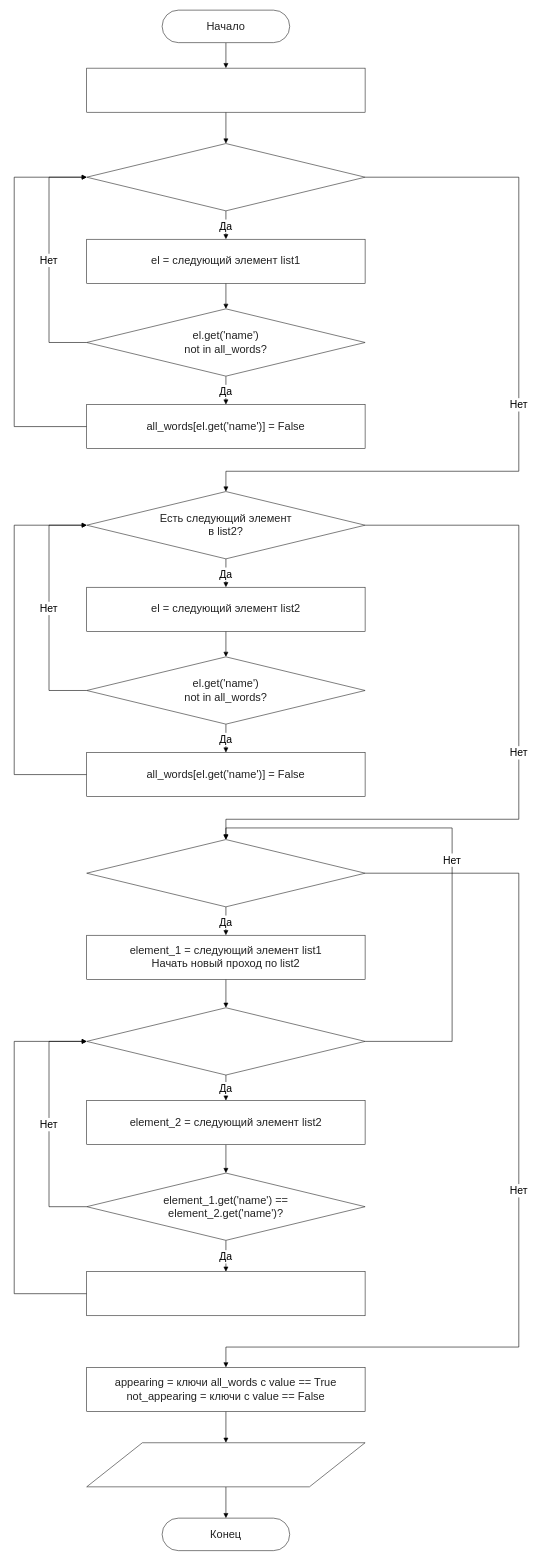
This 538x1561 diagram has some shape labels left out. Here are the shapes that lost their labels. From the top down, the centre of each, then its label:
At [225,90]: "Задать list1 и list2 all_words = {}".
At [225,177]: "Есть следующий элемент в list1?".
At [225,873]: "Есть следующий element_1 в list1?".
At [225,1041]: "Есть следующий element_2 в list2?".
At [225,1293]: "all_words[element_1.get('name')] = True".
At [225,1464]: "Вывести appearing Вывести not_appearing".
